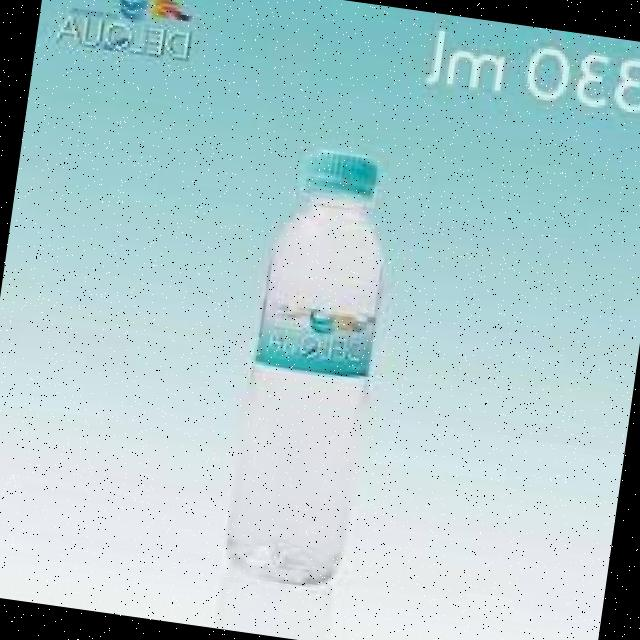bottle: (182, 132, 432, 606)
cap: (289, 142, 387, 206)
label: (240, 290, 394, 388)
